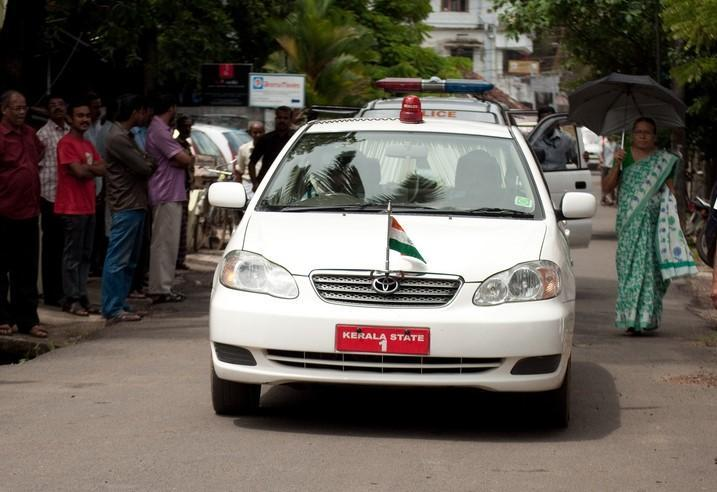Emergency-Vehicles: (249, 88, 565, 388)
